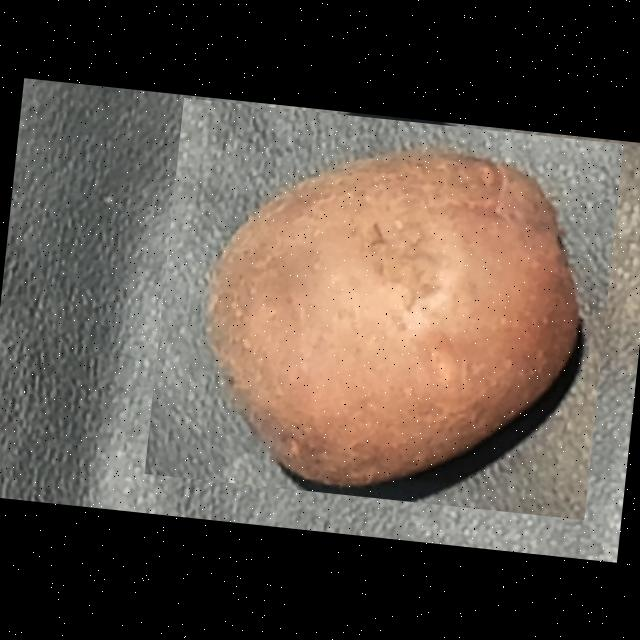Diseased-fungal potato: (144, 98, 623, 520)
